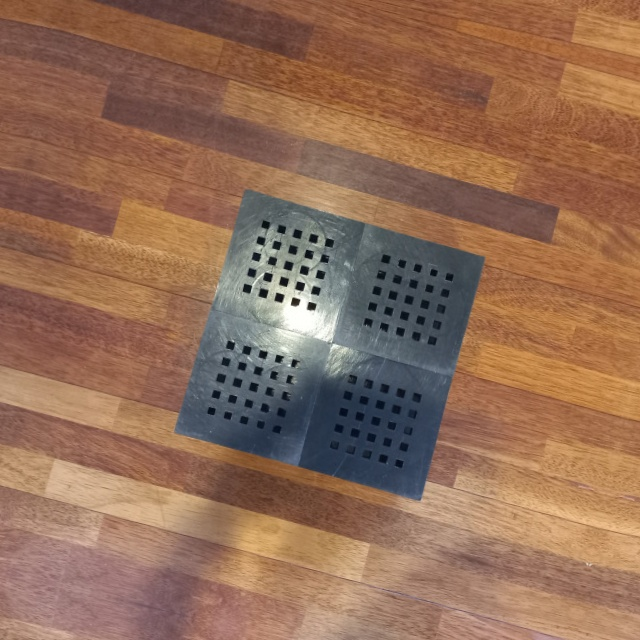pallet: (164, 178, 490, 512)
